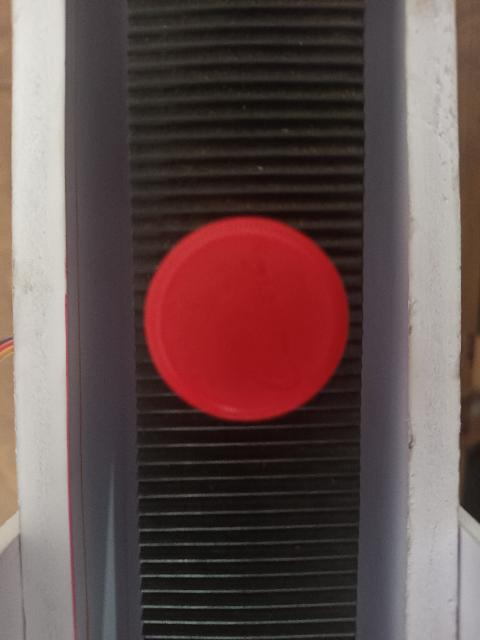bottlecap: (138, 204, 352, 430)
